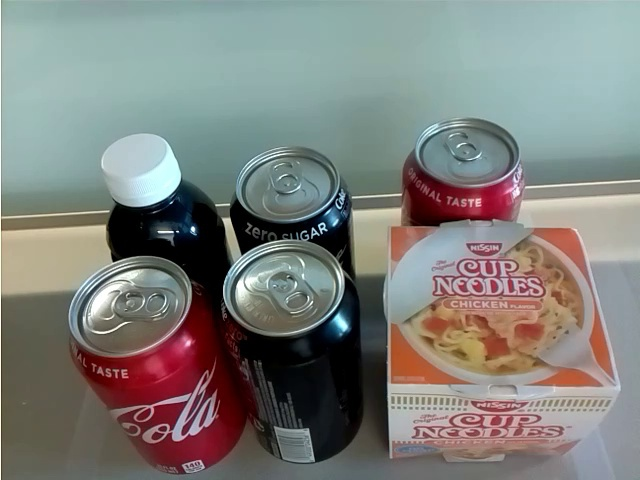cocacola: (67, 252, 248, 479), (220, 238, 368, 466), (228, 146, 356, 280), (398, 120, 527, 224)
juice: (95, 129, 226, 283)
noodles: (384, 222, 621, 466)
